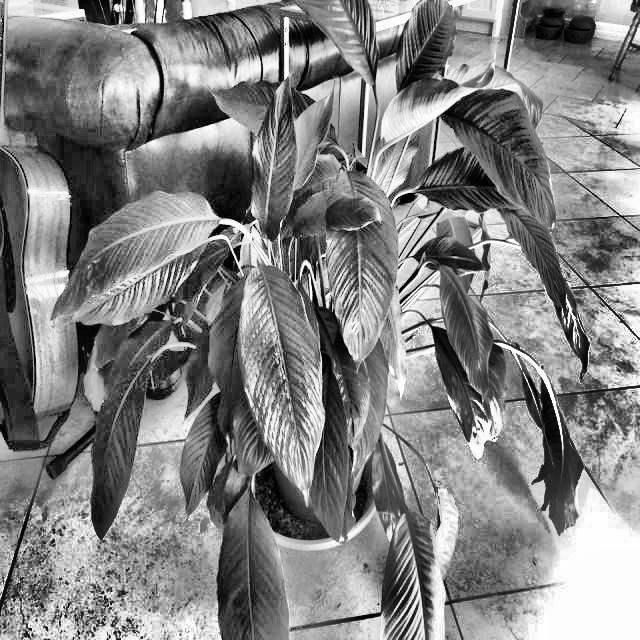plants: (75, 31, 601, 639), (500, 326, 597, 538)
